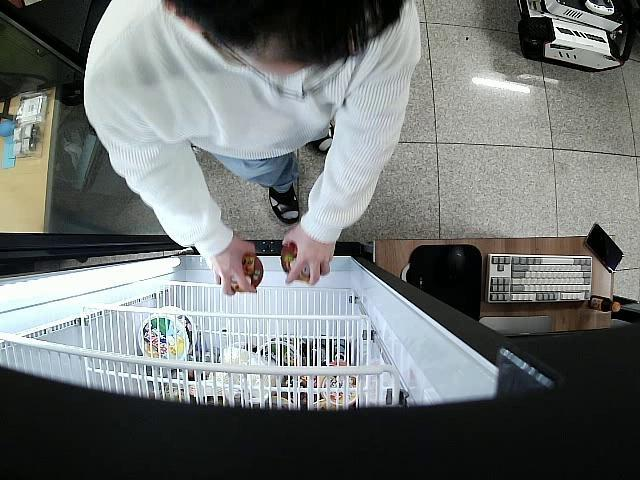06_nuguri_S: (279, 242, 322, 282), (228, 251, 263, 292)
